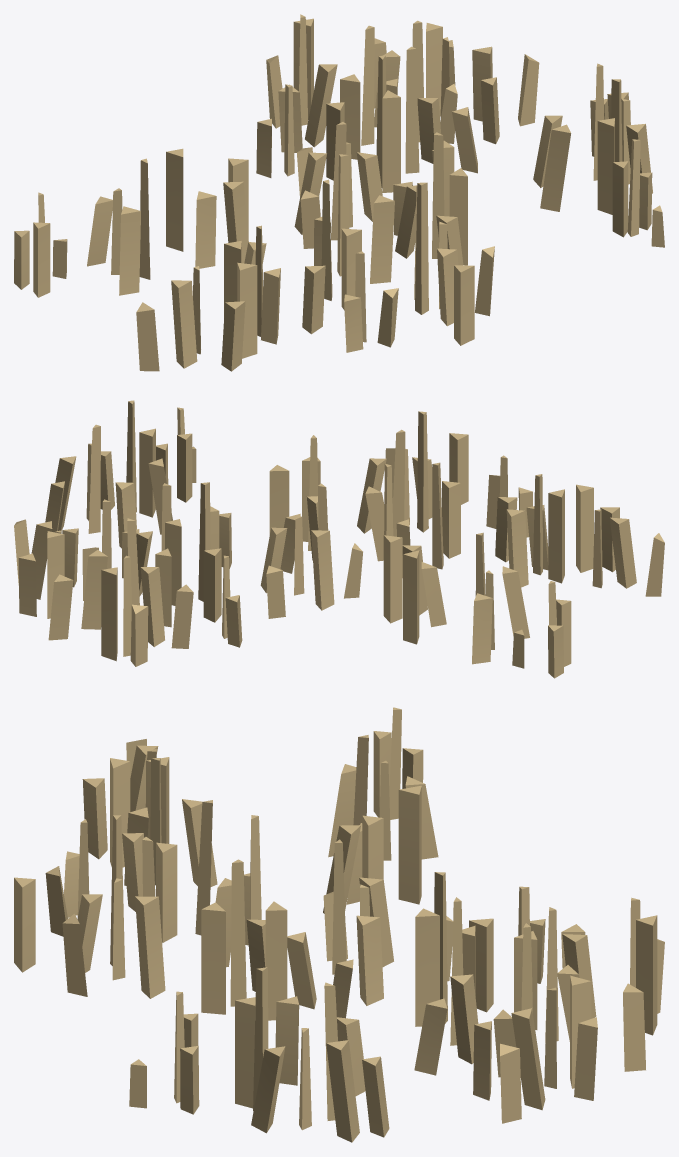
Rendered from SM_Prop_Plant_Wheat_Cut_02.fbx.
3 renders of one model, top to bottom at view 1: azimuth 30°, elevation 25°; view 2: azimuth 150°, elevation 25°; view 3: azimuth 270°, elevation 25°, orthographic. The views are drawn at different scales.
Visible parts, largest first — view 1: SM_Prop_Plant_Wheat_Cut_02; view 2: SM_Prop_Plant_Wheat_Cut_02; view 3: SM_Prop_Plant_Wheat_Cut_02.
Boxes of the visible parts, box(x1,y1,x2,y2) form: SM_Prop_Plant_Wheat_Cut_02: box(14, 14, 664, 371); SM_Prop_Plant_Wheat_Cut_02: box(14, 400, 664, 678); SM_Prop_Plant_Wheat_Cut_02: box(14, 707, 664, 1142).
Bounding box in the file's own units: 1.66 × 0.3453 × 1.37.
1 material, 1 textured.
